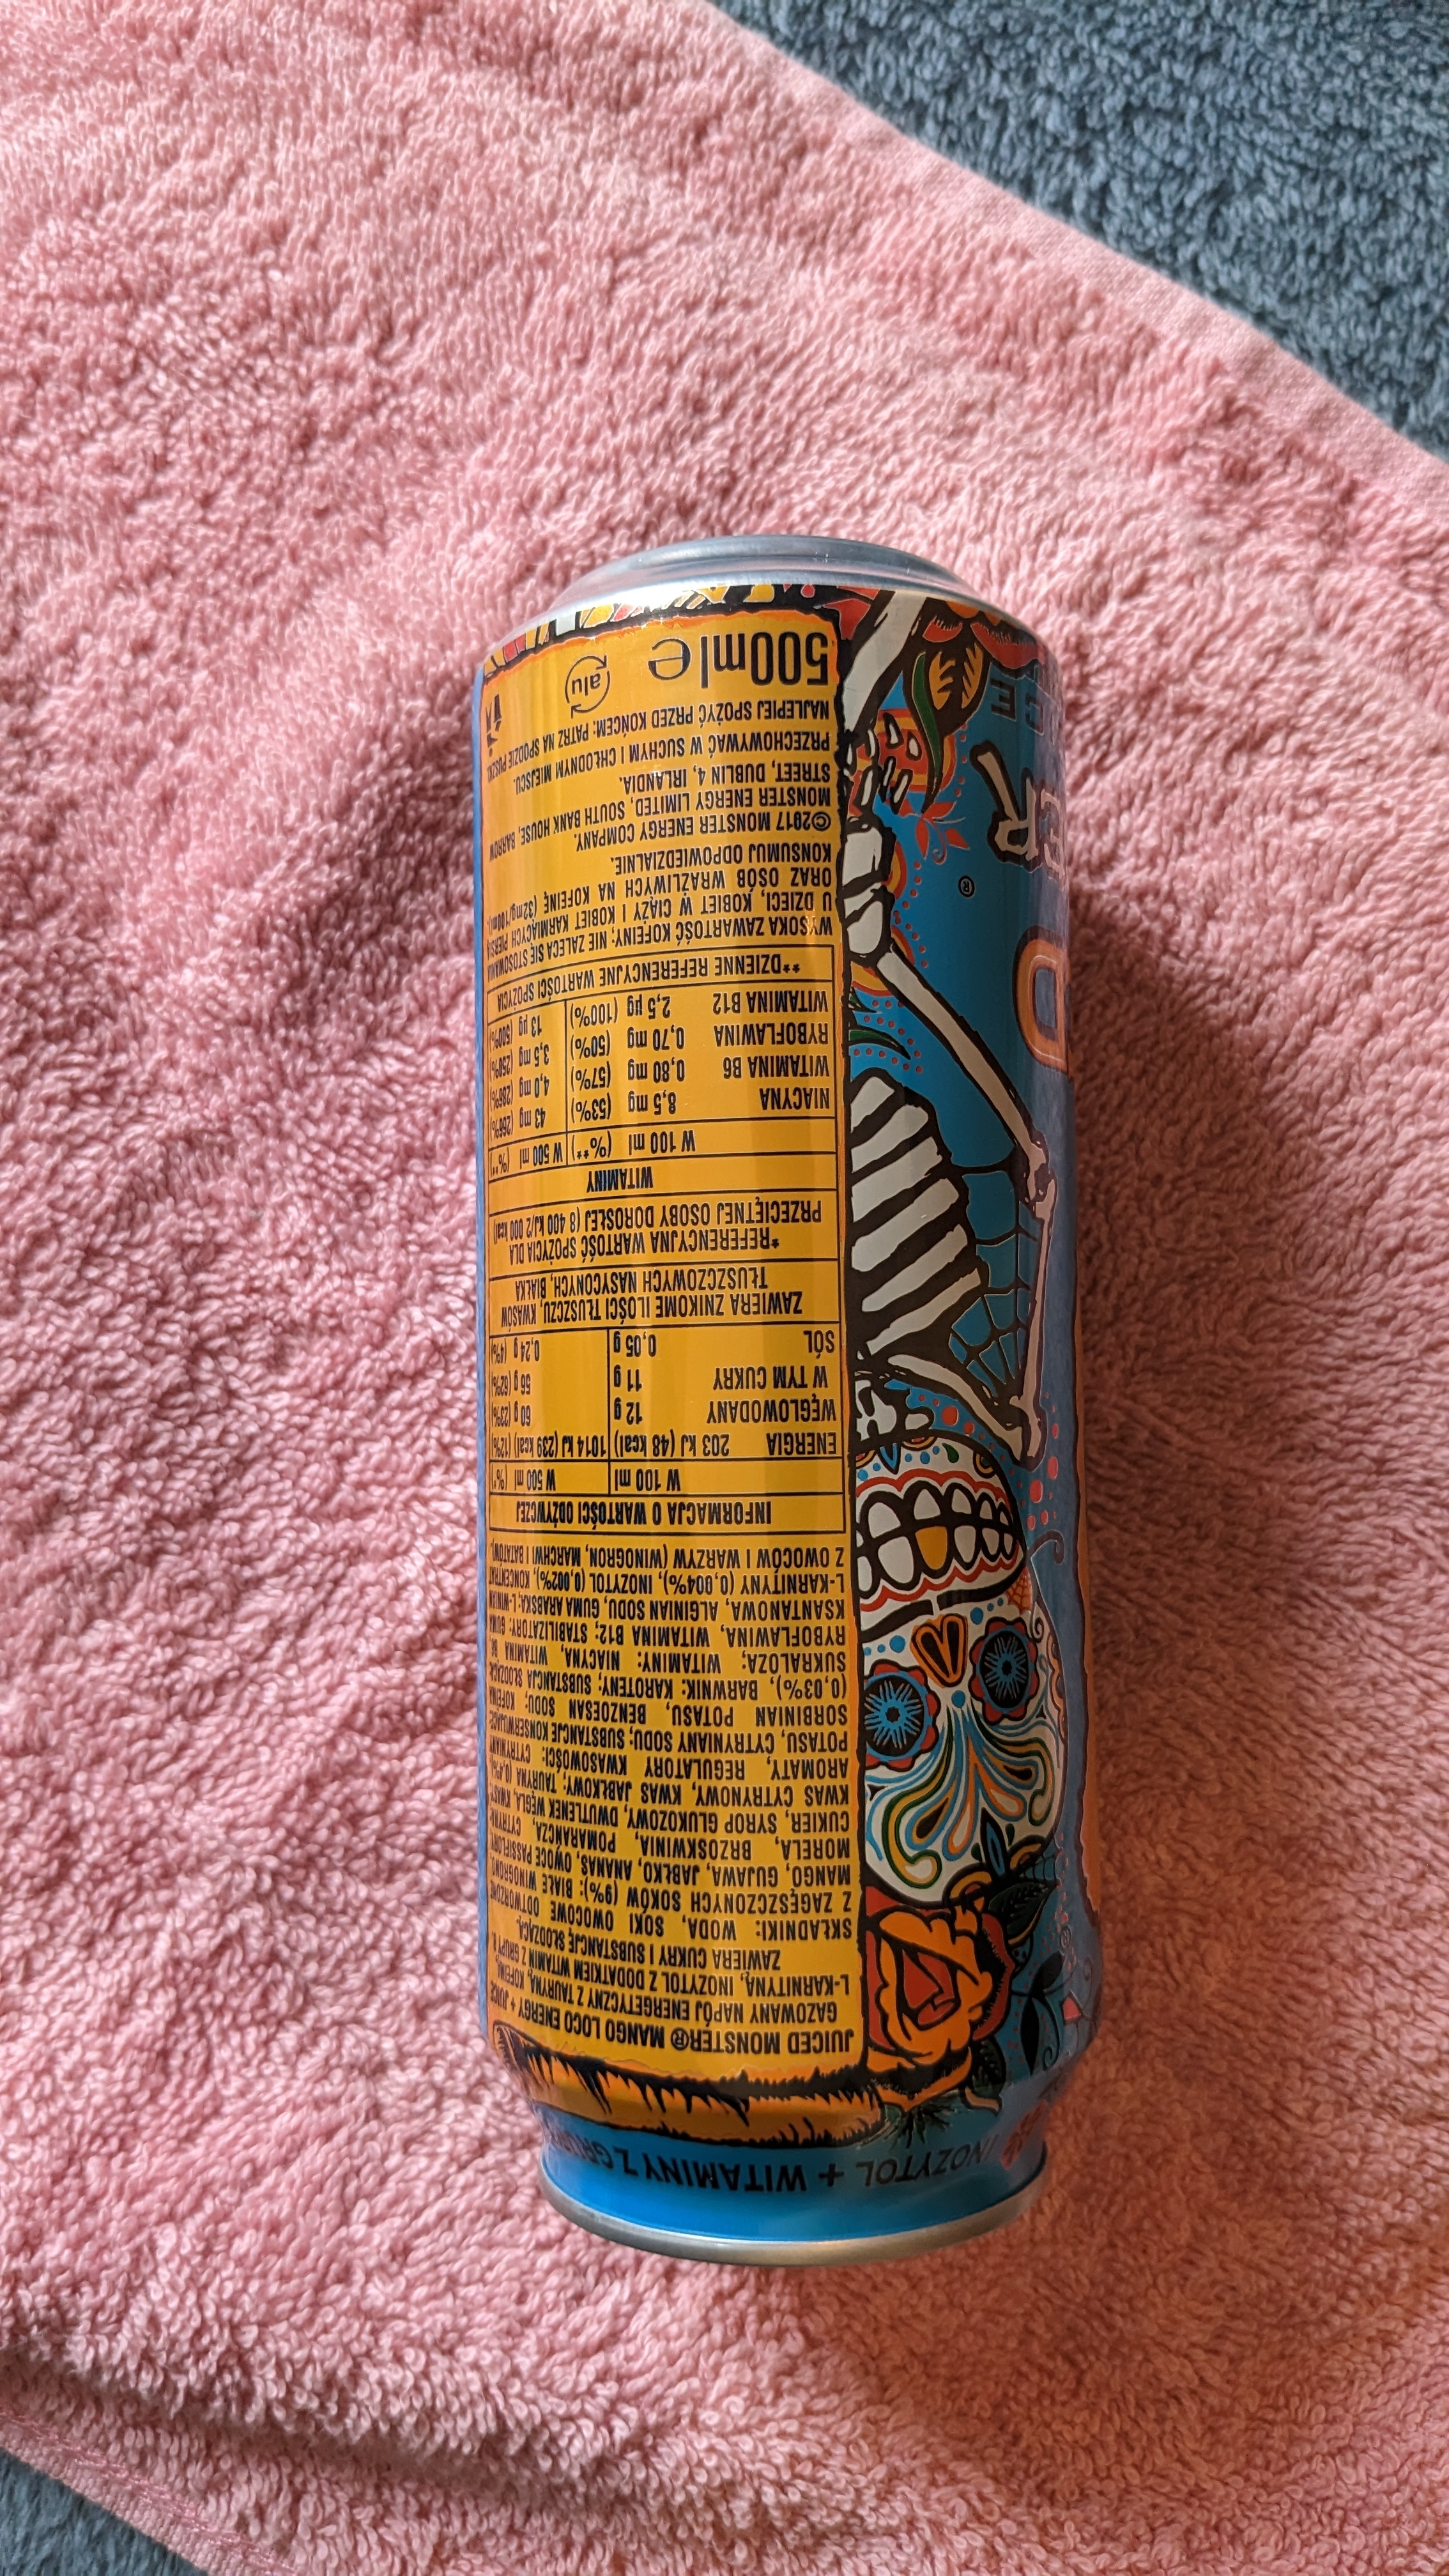monster: (421, 543, 1093, 2270)
